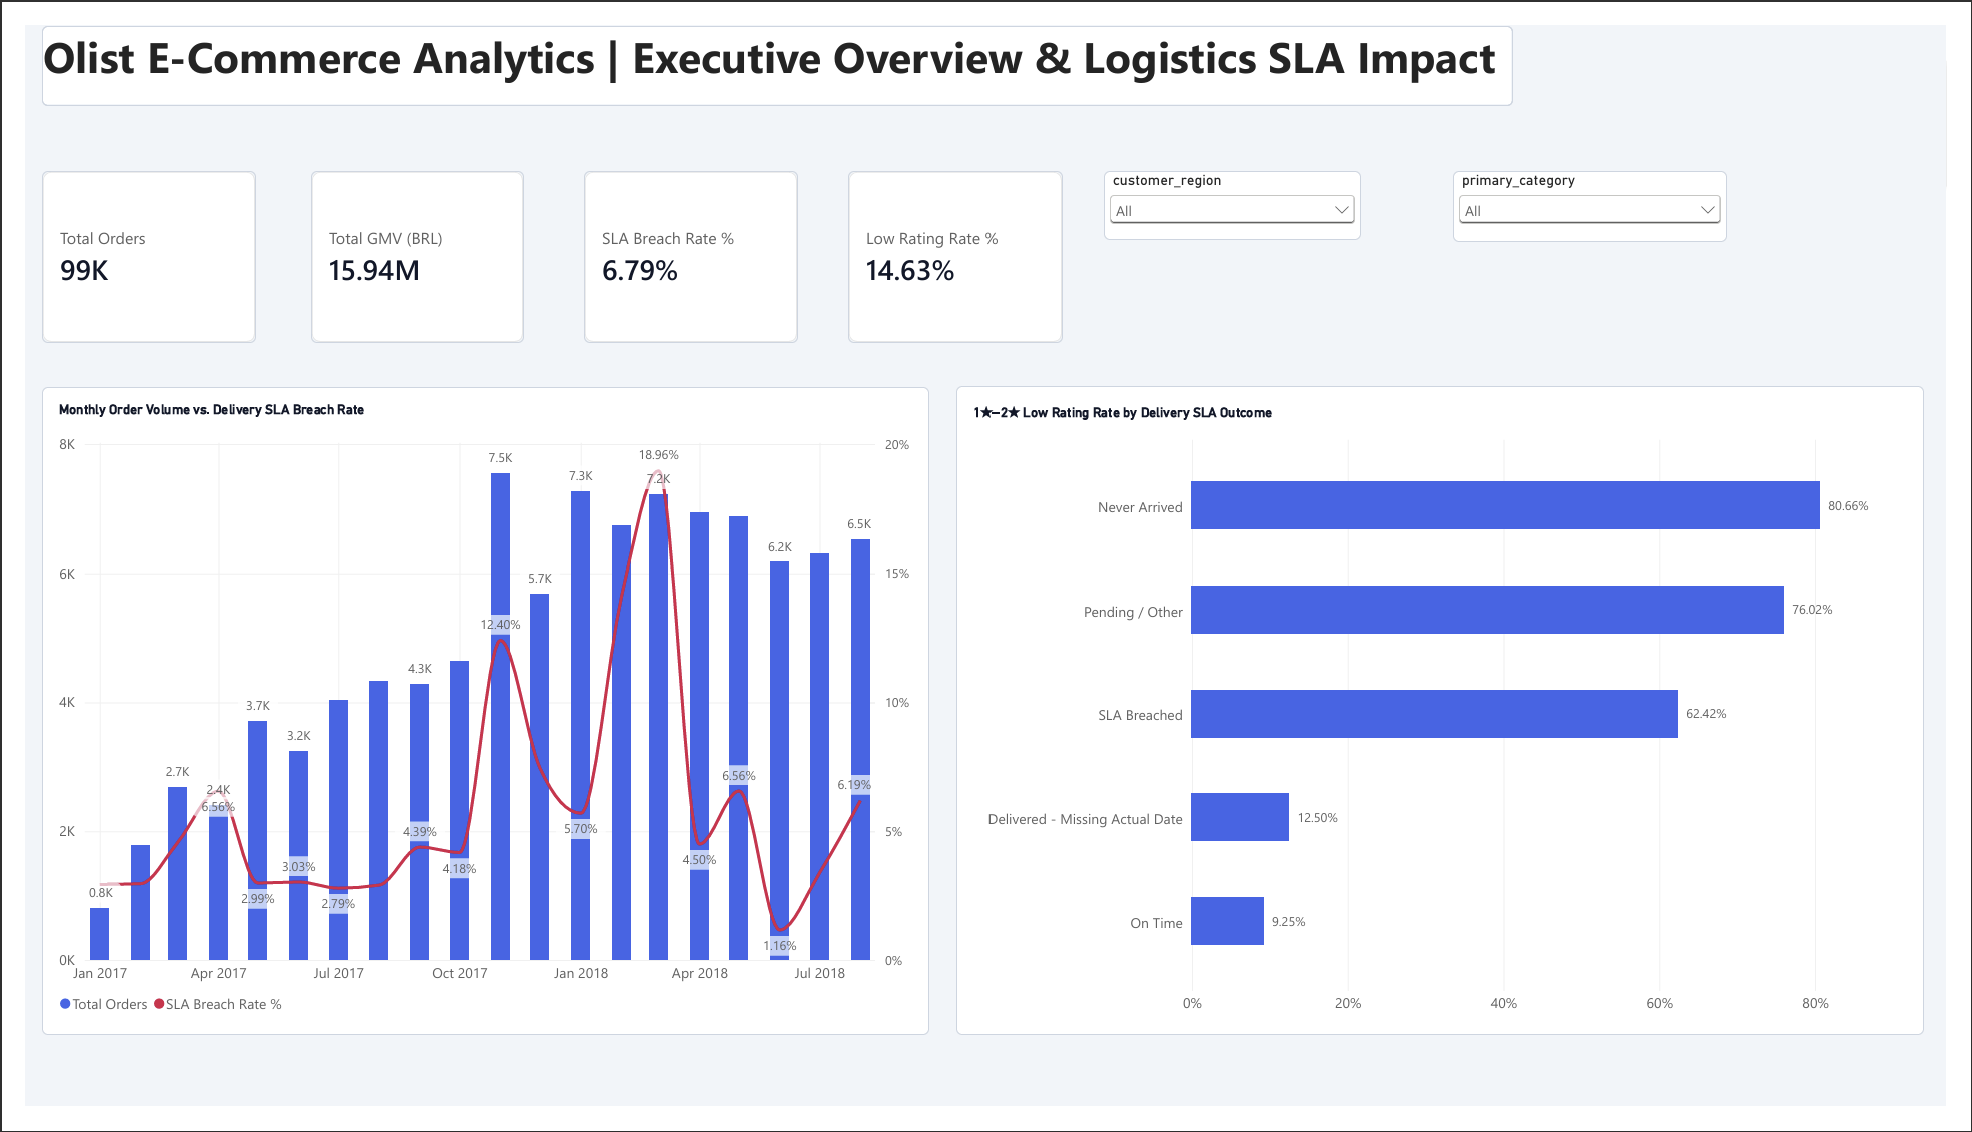

The page's visual inventory and layout, read from the dashboard file:
{"tool":"powerbi","page":{"name":"Executive Overview & Logistics SLA Impact","canvas":[1920,1080],"ordinal":0},"visuals":[{"type":"cardVisual","fields":{"Data":["_Measures.Total Orders"]},"box":[16.1,144.7,213.6,172.2],"z":0},{"type":"cardVisual","fields":{"Data":["_Measures.Total GMV (BRL)"]},"box":[284.8,144.7,213.6,172.2],"z":1000},{"type":"cardVisual","fields":{"Data":["_Measures.SLA Breach Rate %"]},"box":[558.1,144.7,213.6,172.2],"z":2000},{"type":"cardVisual","fields":{"Data":["_Measures.Low Rating Rate %"]},"box":[822.2,144.7,213.6,172.2],"z":3000},{"type":"lineClusteredColumnComboChart","title":"Monthly Order Volume vs. Delivery SLA Breach Rate","fields":{"Category":["vw_pbi_orders.order_month"],"Y":["_Measures.Total Orders"],"Y2":["_Measures.SLA Breach Rate %"]},"box":[16.1,360.6,886.5,647.7],"z":4000},{"type":"clusteredBarChart","title":"1★–2★ Low Rating Rate by Delivery SLA Outcome","fields":{"Category":["vw_pbi_orders.delivery_outcome"],"Y":["_Measures.Low Rating Rate %"]},"box":[929.9,360,967.4,648.3],"z":5000},{"type":"slicer","fields":{"Values":["vw_pbi_orders.customer_region"]},"box":[1077.1,144.7,257.2,68.9],"z":6000},{"type":"slicer","fields":{"Values":["vw_pbi_orders.primary_category"]},"box":[1426.2,144.7,273.3,71.2],"z":7000},{"type":"shape","box":[16.1,0,1469.9,80.4],"z":8000},{"type":"textbox","box":[16.1,0,1469.9,80.4],"z":9000}]}

Visuals, with their boxes in screenshot pixels (x1, y1, x2, y2), scaled from the page's 1920x1080 canvas onto the 1972x1132 screenshot:
cardVisual - _Measures.Total Orders: [17, 152, 236, 332]
cardVisual - _Measures.Total GMV (BRL): [293, 152, 512, 332]
cardVisual - _Measures.SLA Breach Rate %: [573, 152, 793, 332]
cardVisual - _Measures.Low Rating Rate %: [844, 152, 1064, 332]
"Monthly Order Volume vs. Delivery SLA Breach Rate" lineClusteredColumnComboChart: [17, 378, 927, 1057]
"1★–2★ Low Rating Rate by Delivery SLA Outcome" clusteredBarChart: [955, 377, 1949, 1057]
slicer - vw_pbi_orders.customer_region: [1106, 152, 1370, 224]
slicer - vw_pbi_orders.primary_category: [1465, 152, 1746, 226]
shape: [17, 0, 1526, 84]
textbox: [17, 0, 1526, 84]
